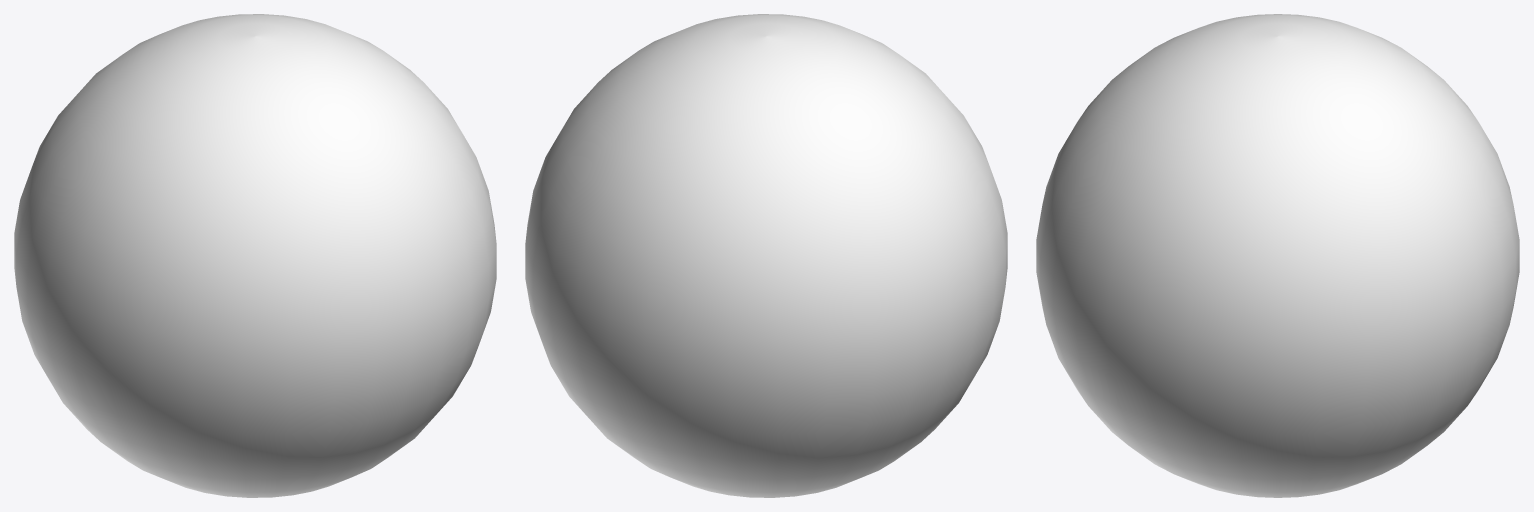
Rendered from mirror_sphere.glb.
The picture shows the model from 3 angles, left to right: view 1: azimuth 30°, elevation 25°; view 2: azimuth 150°, elevation 25°; view 3: azimuth 270°, elevation 25°; orthographic projection.
Visible parts, largest first — view 1: SurfSphere; view 2: SurfSphere; view 3: SurfSphere.
Part boxes in pixels (x1,y1,x2,y2): SurfSphere: [14, 14, 496, 497]; SurfSphere: [525, 14, 1007, 497]; SurfSphere: [1036, 14, 1519, 497].
Size of the model in its own units: 1.99 by 2 by 1.99.
Materials: 1 (1 with a texture image).
